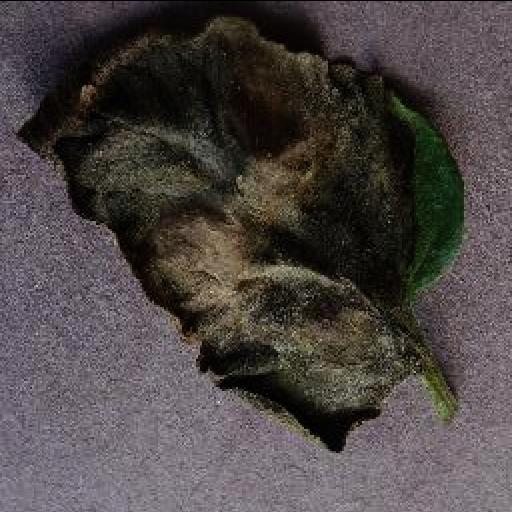disease_tomato: (7, 10, 461, 456)
